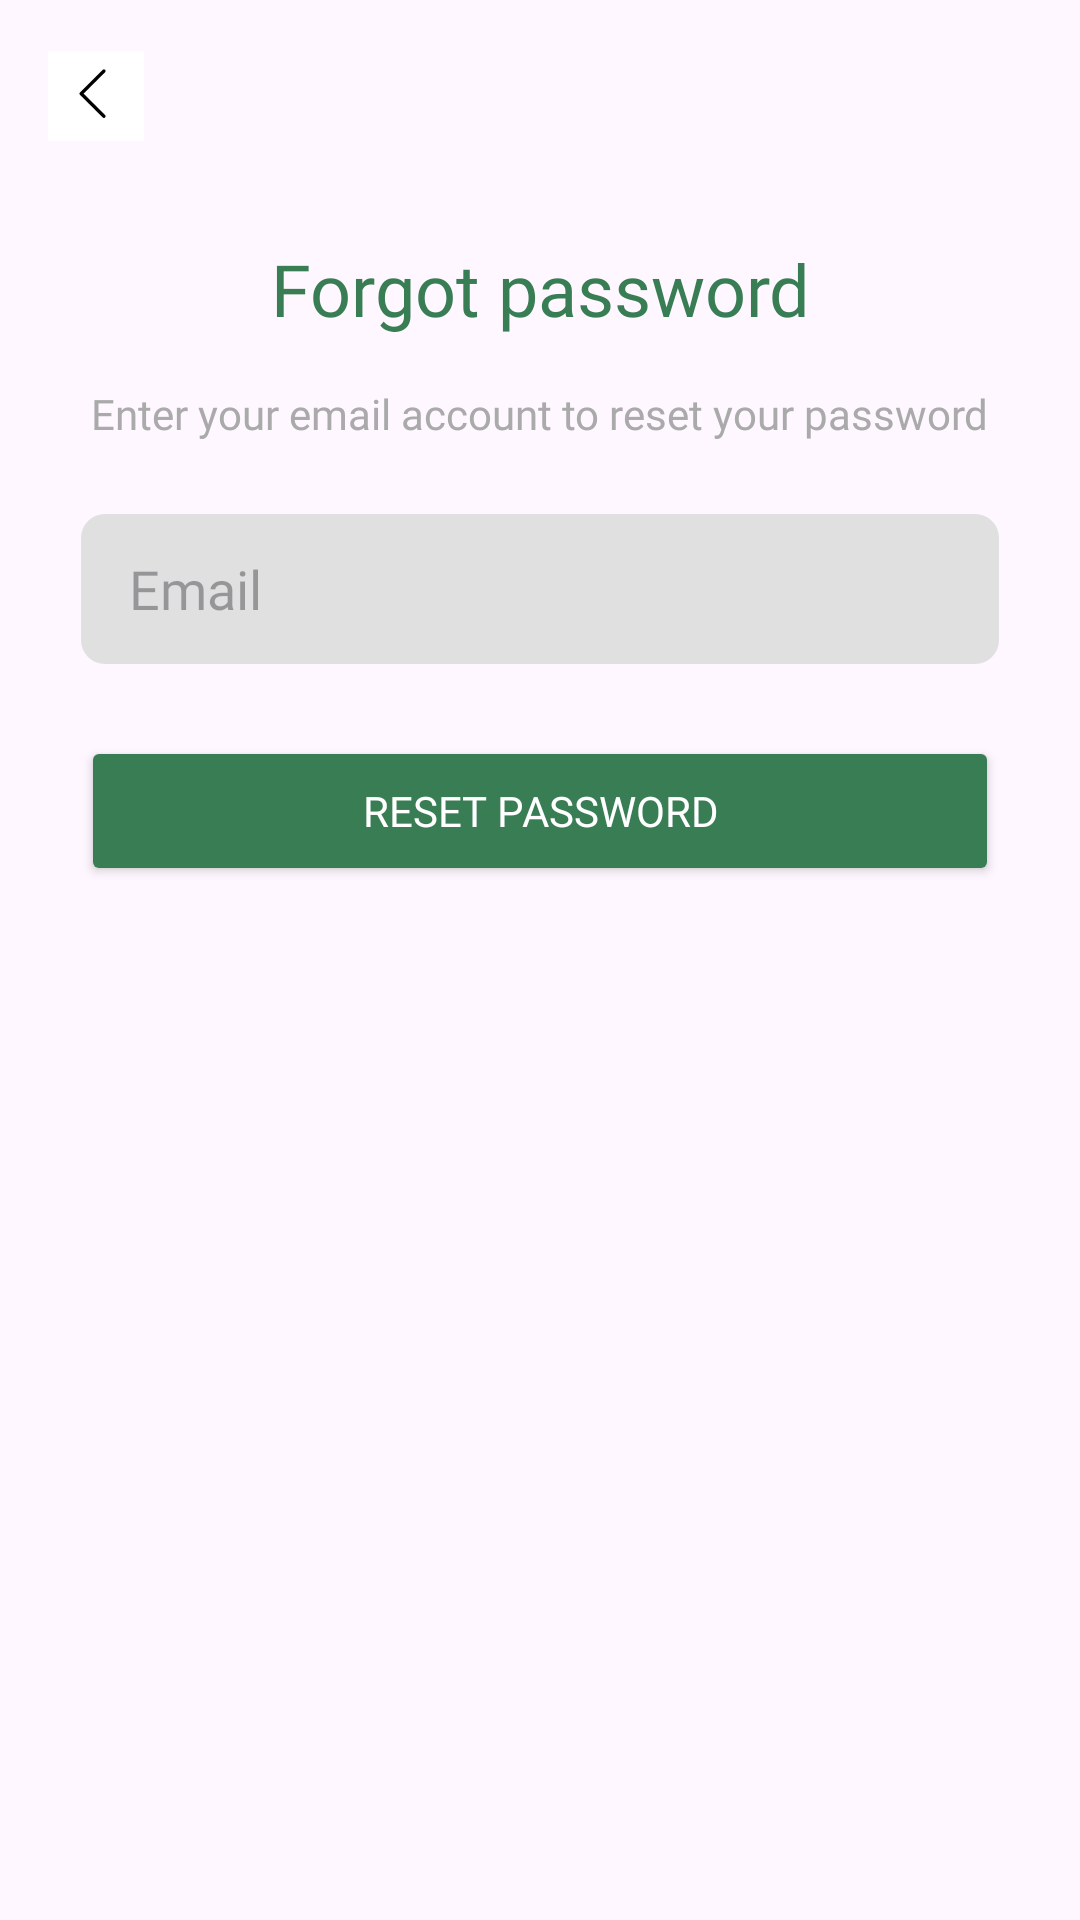

Icon bounding boxes for this 1080w x 1920h phone screenshot, format (x1, y1, x2, y2):
Back: (79, 69, 106, 118)
